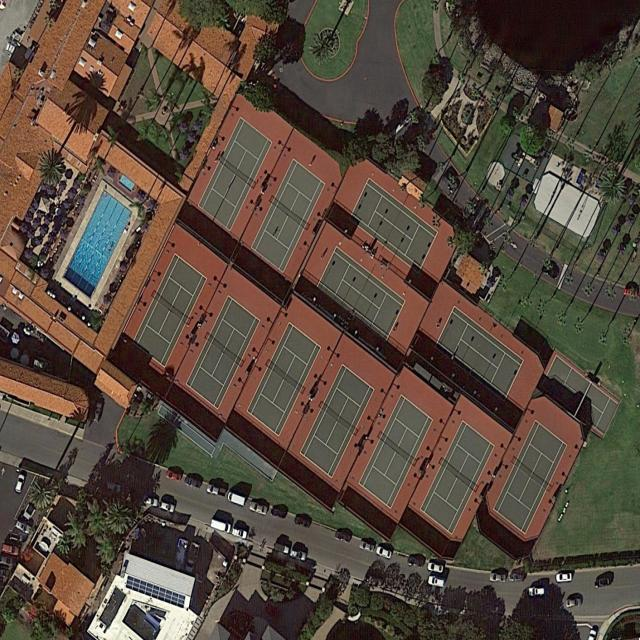large-vehicle: (210, 518, 232, 534), (207, 484, 227, 498), (228, 492, 246, 507)
small-vehicle: (183, 543, 201, 575), (444, 168, 461, 193), (542, 262, 560, 282), (15, 519, 33, 536), (92, 399, 104, 423), (294, 515, 312, 531), (270, 506, 288, 522), (230, 525, 248, 541), (249, 501, 268, 516), (1, 543, 20, 558), (334, 530, 352, 544), (165, 469, 182, 483), (376, 546, 393, 560), (104, 481, 122, 494), (428, 575, 446, 588), (15, 473, 26, 494), (290, 548, 306, 562), (142, 494, 158, 508), (184, 477, 201, 490), (407, 556, 424, 569), (159, 501, 175, 514), (623, 285, 639, 298), (427, 562, 444, 574), (275, 543, 290, 555), (359, 541, 374, 553), (595, 578, 610, 589), (509, 573, 525, 583), (556, 573, 572, 583), (490, 573, 506, 583), (566, 599, 582, 608), (529, 588, 544, 597)
